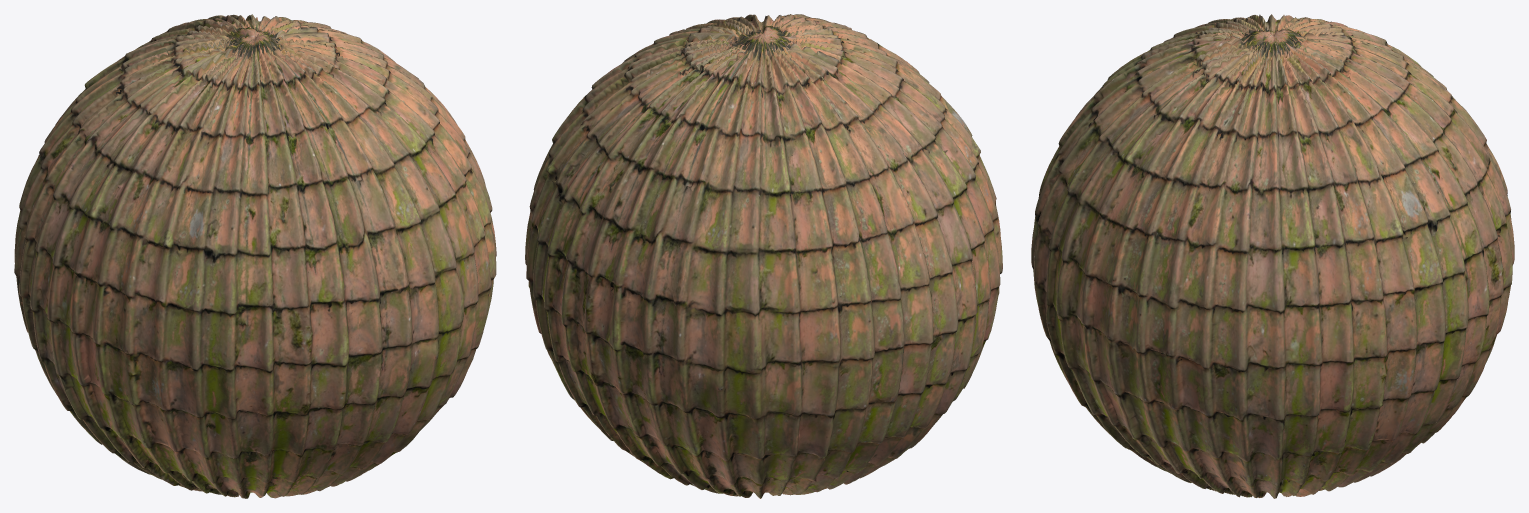
Rendered from ceramic_roof_01_1k.gltf.
The picture shows the model from 3 angles, left to right: view 1: azimuth 30°, elevation 25°; view 2: azimuth 150°, elevation 25°; view 3: azimuth 270°, elevation 25°; orthographic projection.
Parts seen in each view (by area): view 1: sphere_gltf; view 2: sphere_gltf; view 3: sphere_gltf.
Part boxes in pixels (x1,y1,x2,y2): sphere_gltf: (14, 14, 496, 498); sphere_gltf: (525, 14, 1002, 498); sphere_gltf: (1031, 14, 1514, 498).
Size of the model in its own units: 3.56 by 3.61 by 3.55.
1 material, 1 textured.
